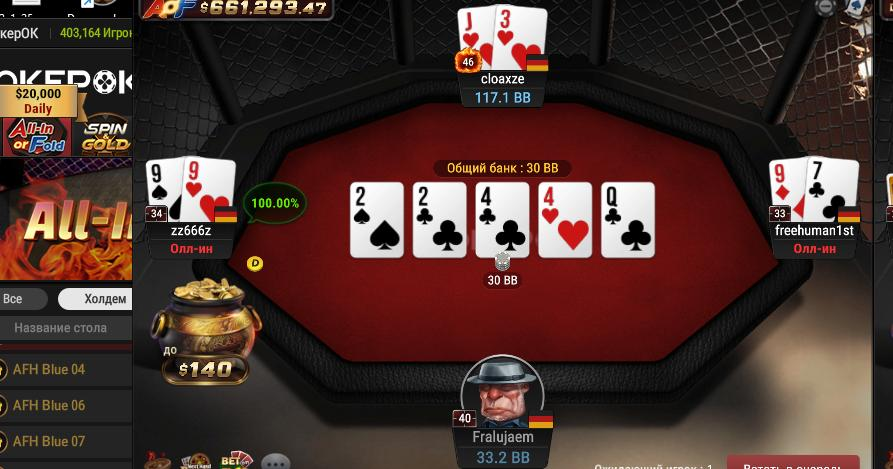2c: (414, 183, 465, 257)
2s: (349, 183, 403, 258)
3h: (495, 4, 547, 72)
4c: (476, 181, 529, 258)
4h: (539, 184, 592, 255)
7c: (807, 155, 858, 223)
9d: (768, 158, 806, 224)
9h: (183, 155, 235, 222)
9s: (144, 158, 183, 222)
Jh: (455, 8, 494, 69)
Qc: (600, 183, 656, 257)
